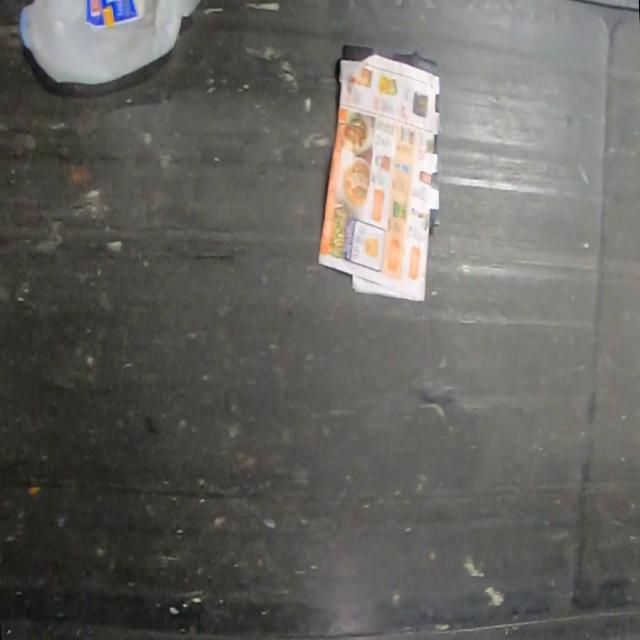rigid_plastic: (19, 0, 202, 89)
